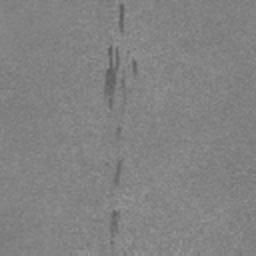Red iron sheet: (105, 46, 120, 96), (113, 159, 123, 187), (110, 210, 120, 237), (118, 3, 125, 34), (132, 60, 138, 76)
